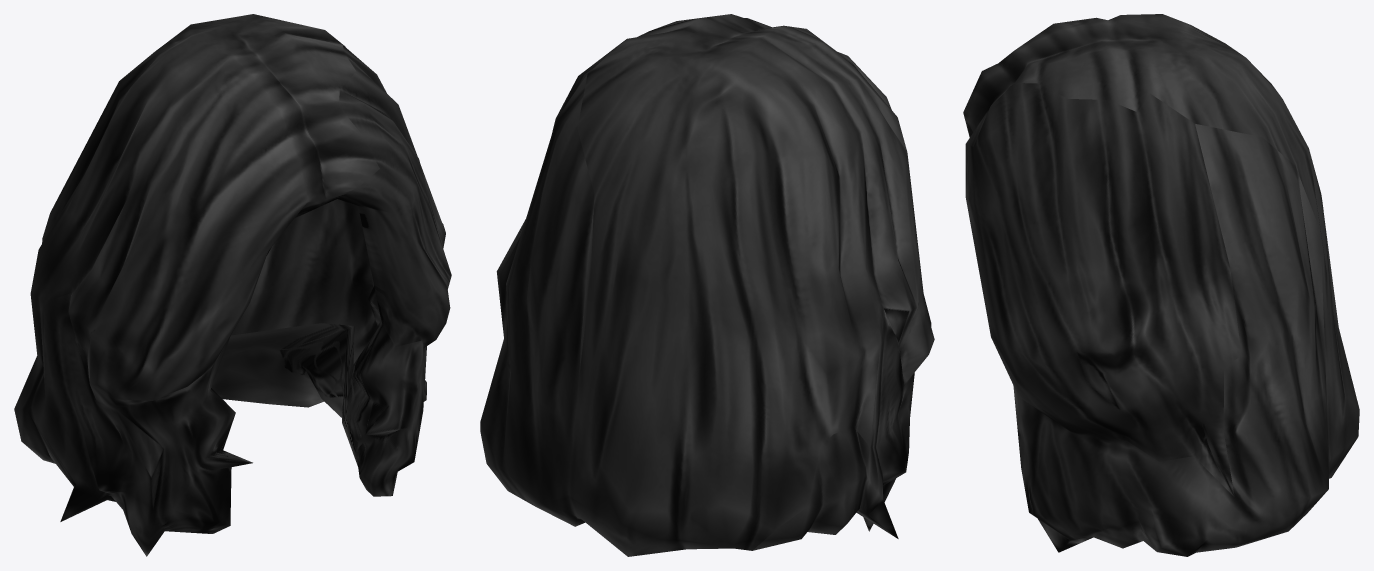
The model's file is AF_M_hair_G_03.fbx.
The picture shows the model from 3 angles, left to right: view 1: azimuth 30°, elevation 25°; view 2: azimuth 150°, elevation 25°; view 3: azimuth 270°, elevation 25°; orthographic projection. The views are drawn at different scales.
Visible parts, largest first — view 1: AF_M_hair_G_03; view 2: AF_M_hair_G_03; view 3: AF_M_hair_G_03.
Boxes of the visible parts, x1,y1,x2,y2 form: AF_M_hair_G_03: (14, 14, 451, 556); AF_M_hair_G_03: (480, 14, 934, 556); AF_M_hair_G_03: (963, 14, 1359, 556).
Bounding box in the file's own units: 924 × 1105 × 823.
